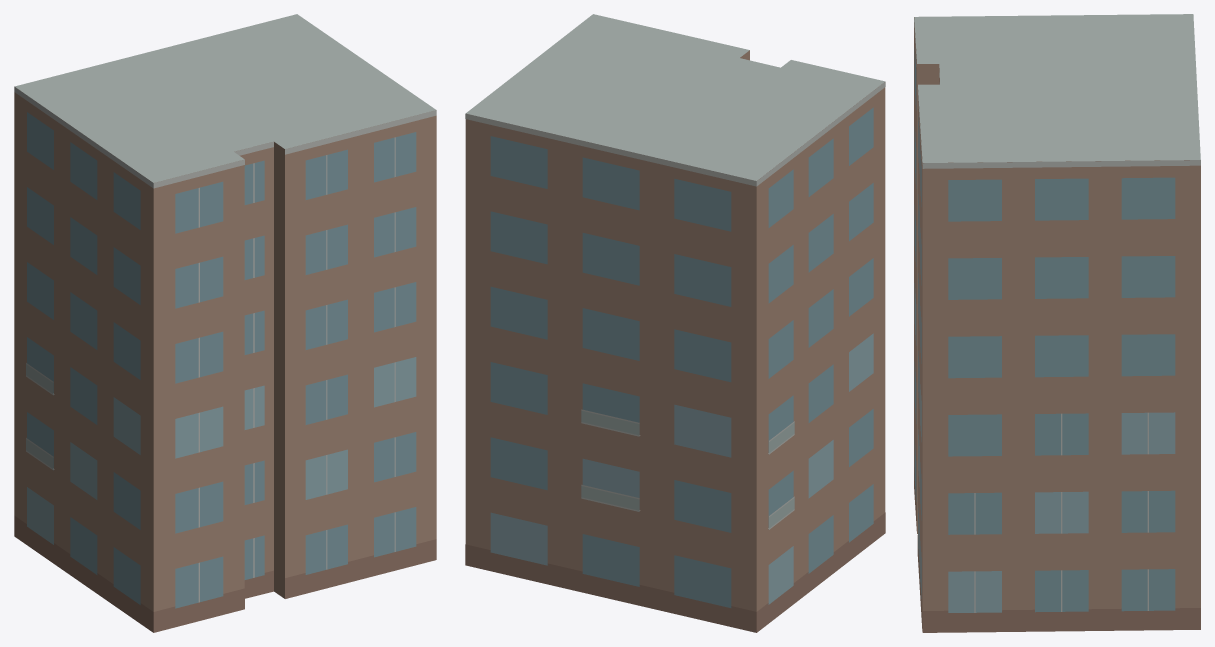
File: survey-upis-32881470.glb
3 views of the same model, side by side, from view 1: azimuth 30°, elevation 25°; view 2: azimuth 150°, elevation 25°; view 3: azimuth 270°, elevation 25° (orthographic). The views are drawn at different scales.
Parts seen in each view (by area): view 1: survey-upis-32881470.tmp; view 2: survey-upis-32881470.tmp; view 3: survey-upis-32881470.tmp.
Boxes of the visible parts, bbox=[...] form: survey-upis-32881470.tmp: bbox=[14, 14, 436, 632]; survey-upis-32881470.tmp: bbox=[465, 14, 885, 632]; survey-upis-32881470.tmp: bbox=[914, 14, 1200, 632].
Bounding box in the file's own units: 13.56 × 19.9 × 11.02.
